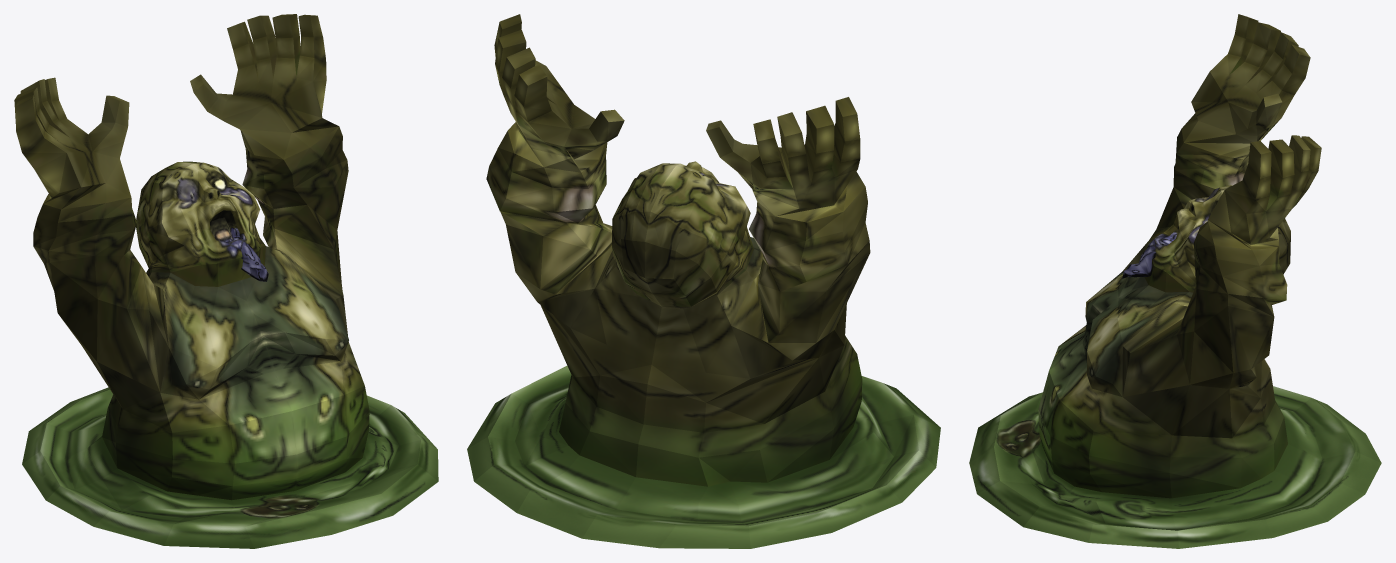
The model's file is Mutitan.fbx.
3 views of the same model, side by side, from view 1: azimuth 30°, elevation 25°; view 2: azimuth 150°, elevation 25°; view 3: azimuth 270°, elevation 25° (orthographic). The views are drawn at different scales.
Visible parts, largest first — view 1: Body 1, Body 2, Ground, Details; view 2: Body 2, Body 1, Ground; view 3: Body 1, Body 2, Ground, Details.
Part boxes in pixels (x1,y1,x2,y2): Body 1: (22, 58, 368, 500); Body 2: (14, 14, 369, 499); Ground: (22, 387, 438, 548); Details: (168, 244, 381, 512); Body 2: (486, 14, 870, 486); Body 1: (500, 66, 865, 486); Ground: (467, 366, 940, 548); Body 1: (1038, 71, 1291, 498); Body 2: (1038, 14, 1321, 498); Ground: (969, 386, 1381, 548); Details: (1018, 246, 1155, 496).
Size of the model in its own units: 1190 by 1218 by 1202.
2 materials, 2 textured.
